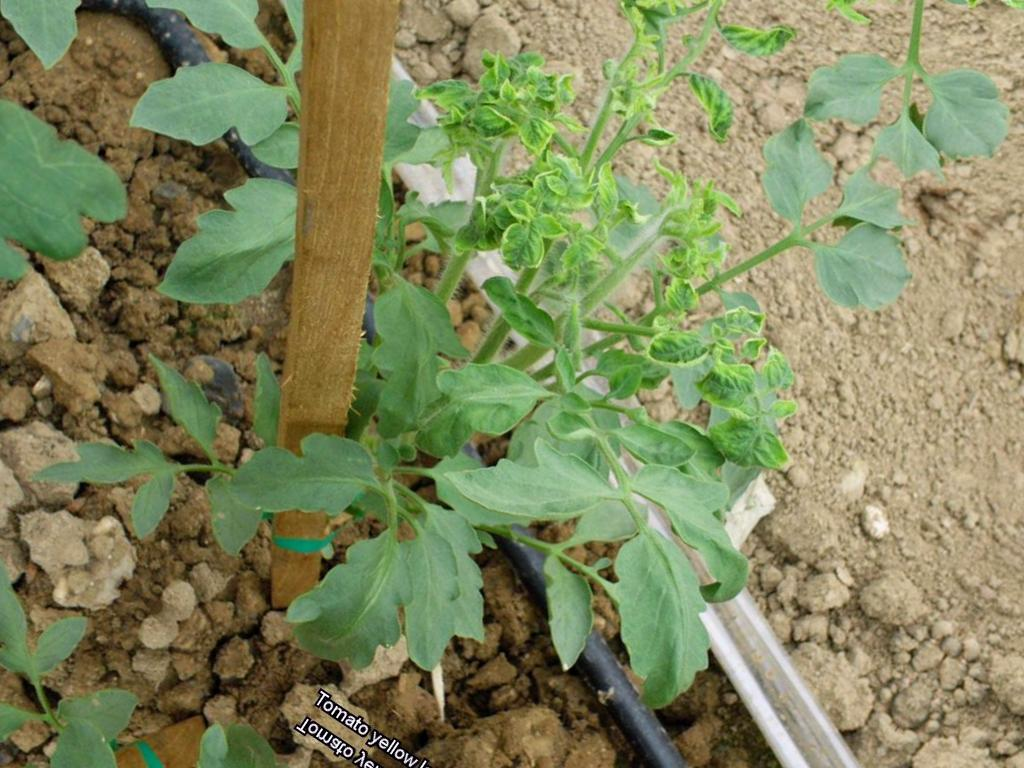Tomato leaf: (551, 517, 752, 727), (457, 390, 660, 578), (269, 500, 450, 693), (315, 255, 498, 445), (148, 144, 323, 336), (121, 17, 294, 190), (217, 392, 388, 563), (349, 517, 512, 682), (725, 108, 866, 254), (791, 200, 929, 336), (120, 344, 255, 464), (500, 545, 625, 673), (149, 0, 307, 84), (600, 398, 701, 488)
